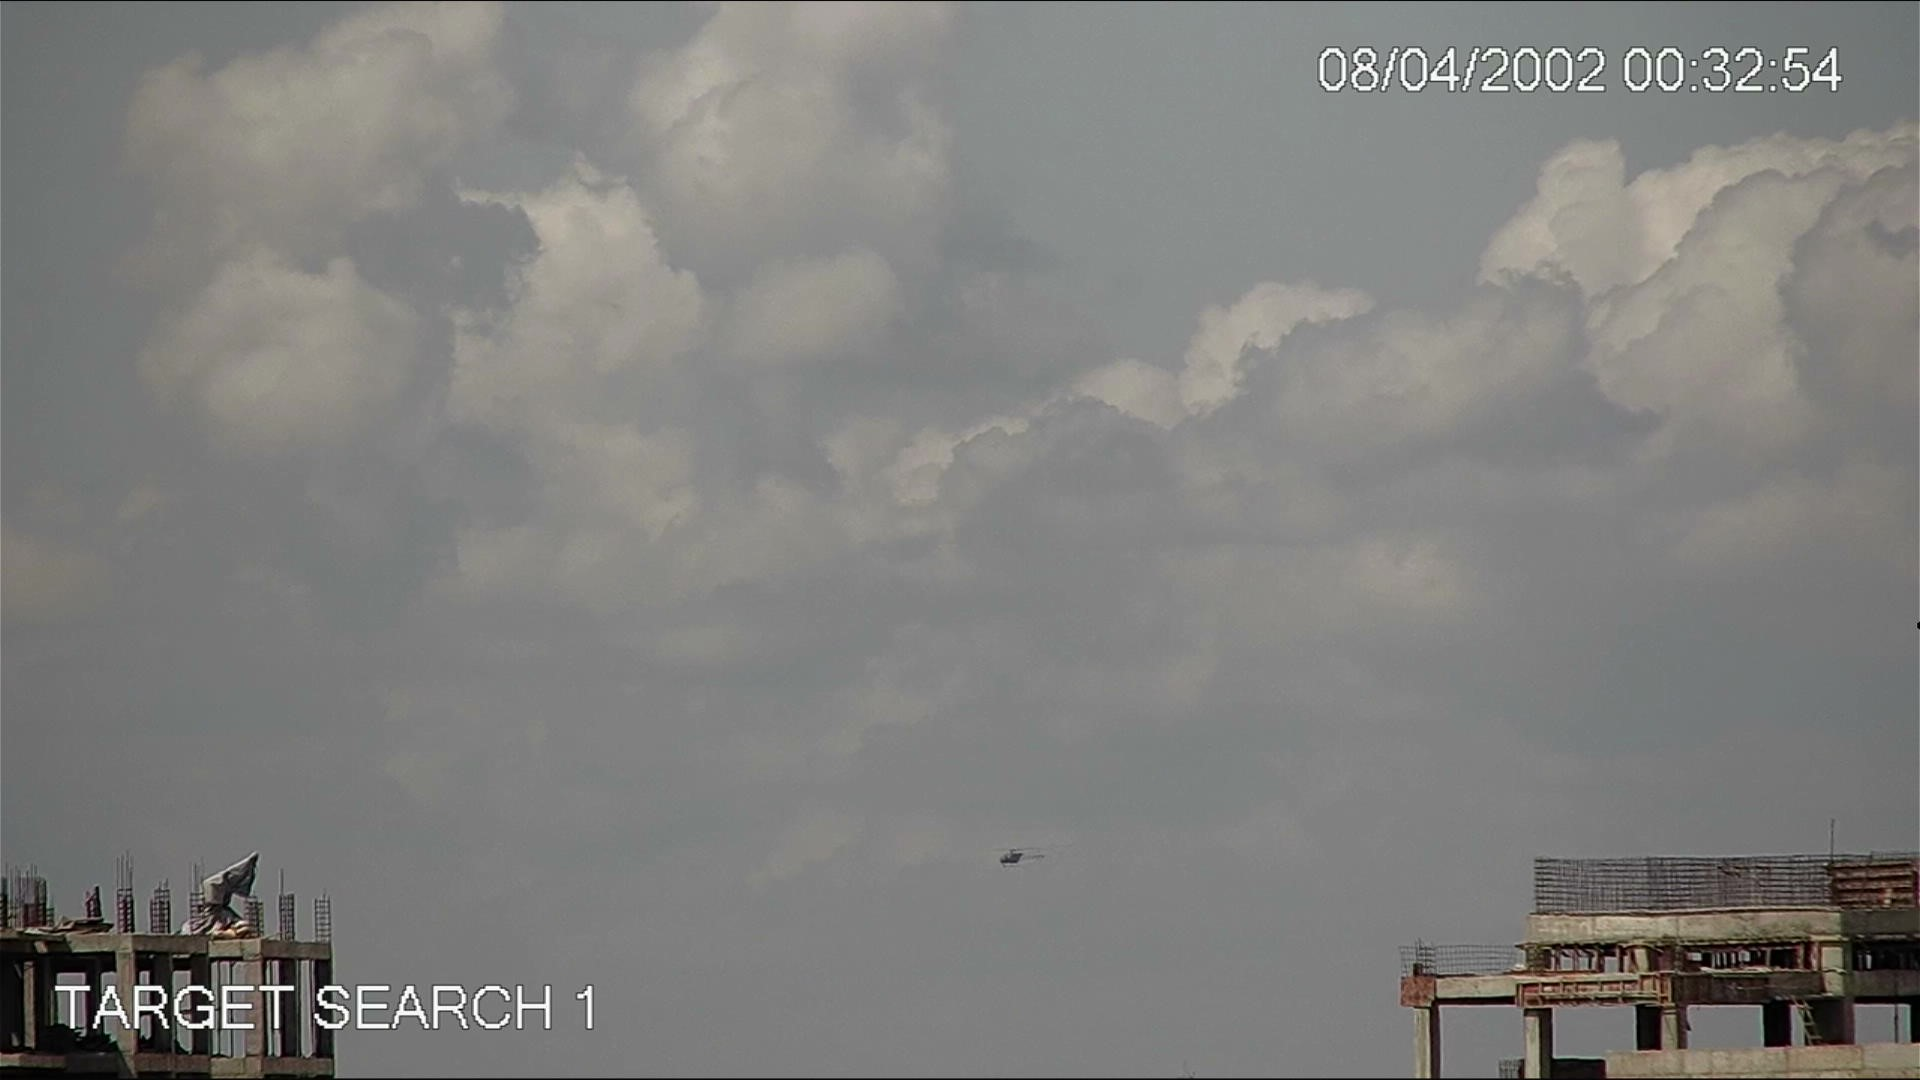SU_30: (993, 840, 1047, 869)
